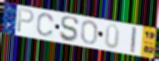0: (104, 23, 121, 50)
C: (36, 13, 56, 38)
I: (130, 26, 138, 54)
O: (80, 19, 99, 46)
P: (16, 7, 35, 34)
S: (59, 16, 80, 42)
